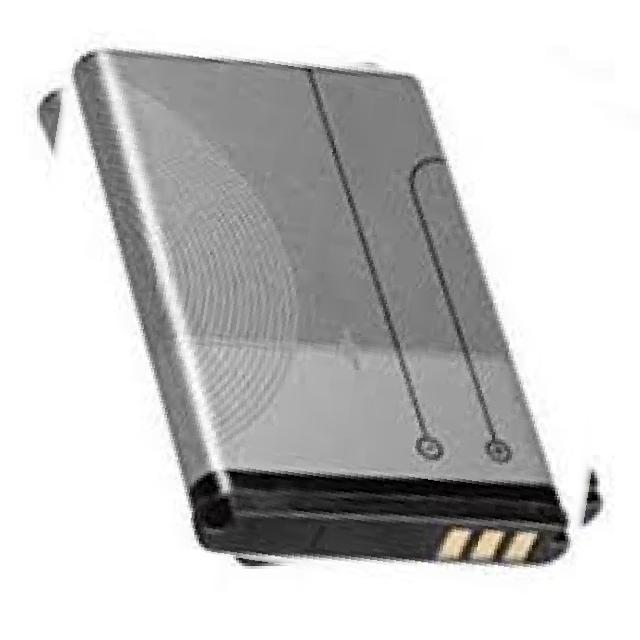Battery: (70, 33, 580, 569)
